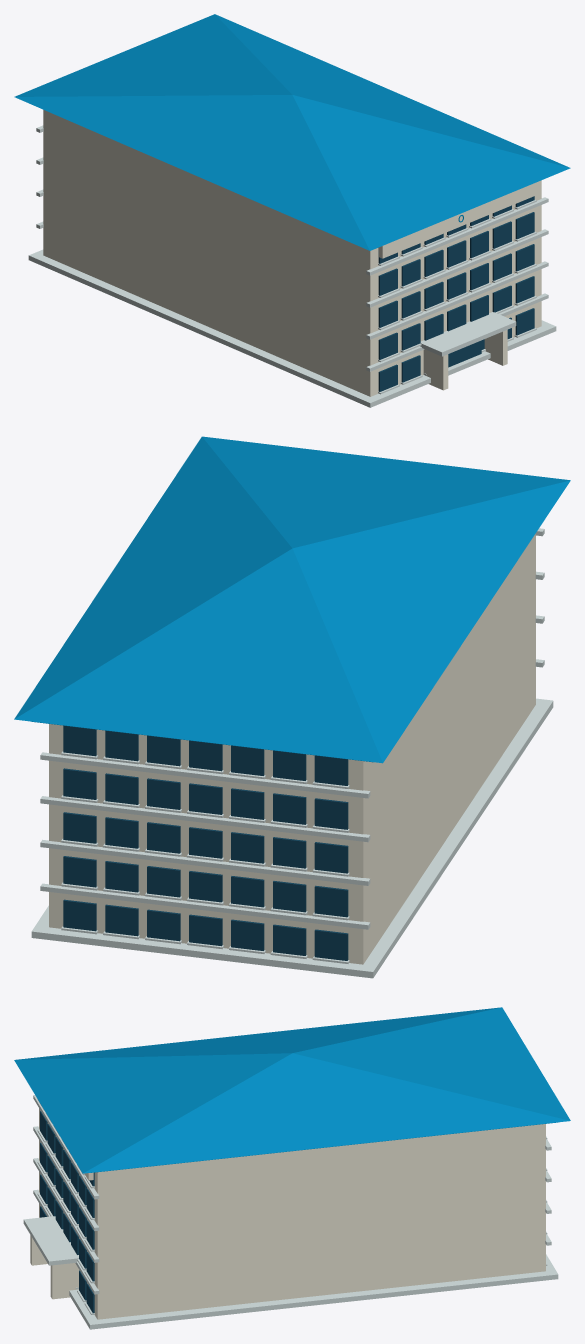
The model's file is asrama-putri.glb.
The picture shows the model from 3 angles, top to bottom: view 1: azimuth 30°, elevation 25°; view 2: azimuth 150°, elevation 25°; view 3: azimuth 270°, elevation 25°; orthographic projection. The views are drawn at different scales.
Visible parts, largest first — view 1: Asrama_Putri_blue, Asrama_Putri_ivory, Asrama_Putri_trim, Asrama_Putri_glass; view 2: Asrama_Putri_blue, Asrama_Putri_ivory, Asrama_Putri_glass, Asrama_Putri_trim; view 3: Asrama_Putri_ivory, Asrama_Putri_blue, Asrama_Putri_trim, Asrama_Putri_glass.
Part boxes in pixels (x1,y1,x2,y2): Asrama_Putri_blue: (14, 14, 570, 250); Asrama_Putri_ivory: (43, 110, 541, 396); Asrama_Putri_trim: (28, 125, 556, 407); Asrama_Putri_glass: (378, 196, 534, 391); Asrama_Putri_blue: (14, 436, 570, 763); Asrama_Putri_ivory: (49, 534, 535, 964); Asrama_Putri_glass: (63, 725, 348, 960); Asrama_Putri_trim: (31, 528, 553, 978); Asrama_Putri_ivory: (30, 1108, 545, 1319); Asrama_Putri_blue: (14, 1007, 570, 1173); Asrama_Putri_trim: (23, 1095, 558, 1329); Asrama_Putri_glass: (40, 1111, 94, 1313).
Size of the model in its own units: 38.28 by 21.55 by 54.16.
